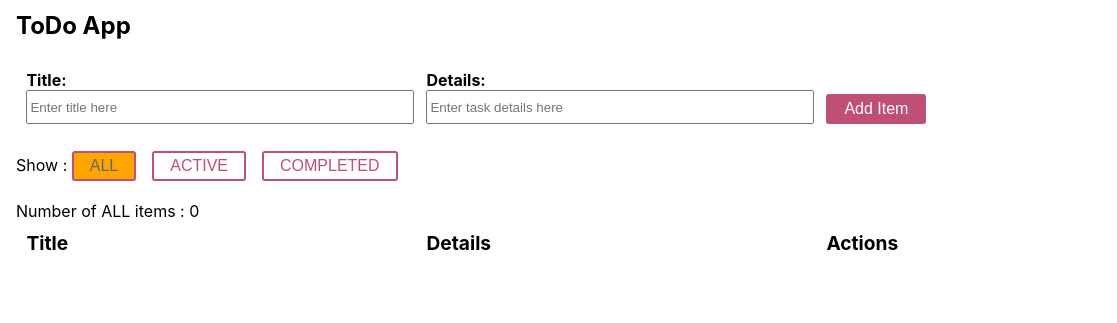
Test: App › render App component with complete button click
Type "title" into the field with placeholder "Enter title here" at (220, 107), box [26,90,414,124]
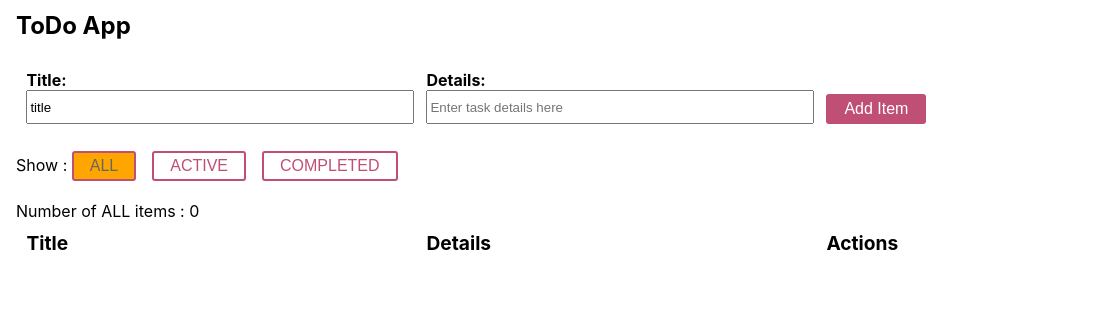
Type "details" into the field with placeholder "Enter task details here" at (620, 107), box [426,90,814,124]
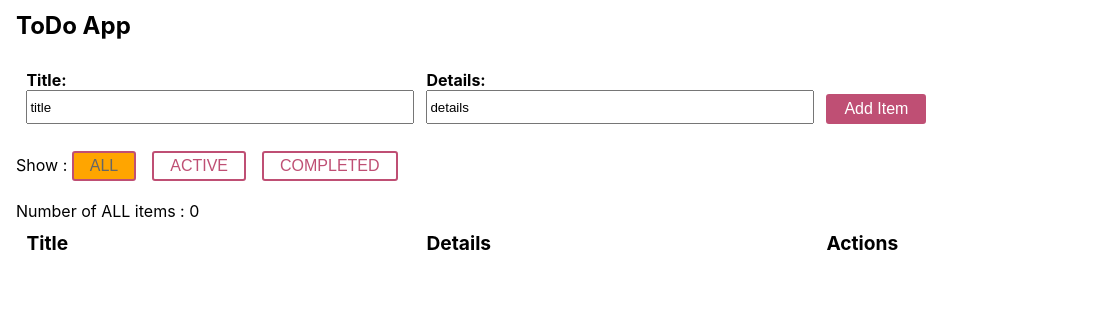
Click the button "Add Item" at (876, 109), box [826,94,926,124]
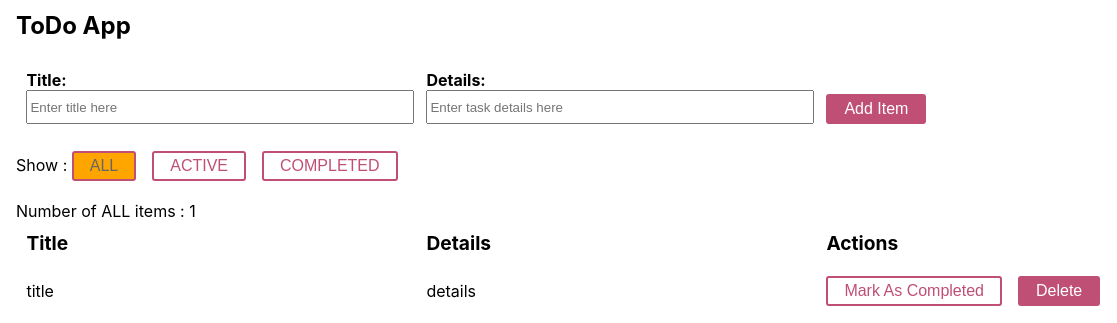
Expected: the text "Number of ALL items : 1" is shown, [16,201,196,221]
Expected: the button "Mark As Completed" is shown
Click the button "Mark As Completed" at (914, 291), box [826,276,1002,306]
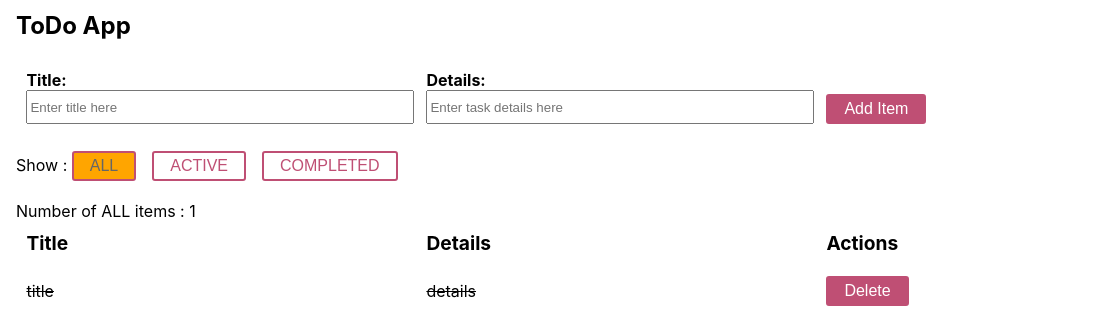
Expected: the button "Mark As Completed" is gone
Click the button "COMPLETED" at (330, 166), box [262,151,398,181]
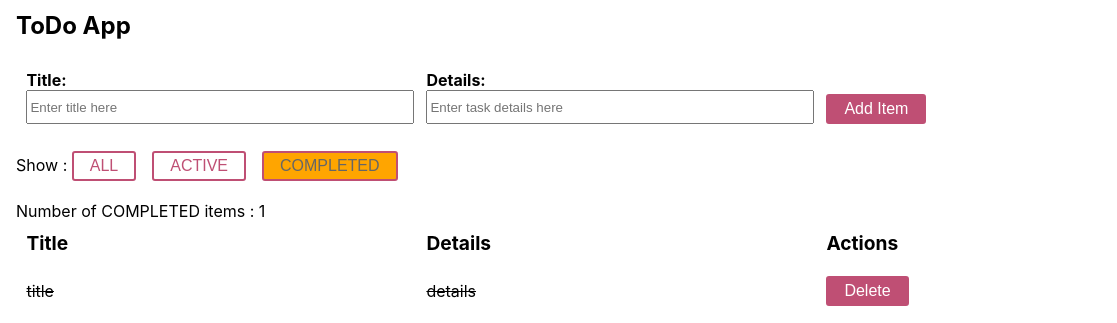
Expected: the text "Number of COMPLETED items : 1" is shown, [16,201,265,221]
